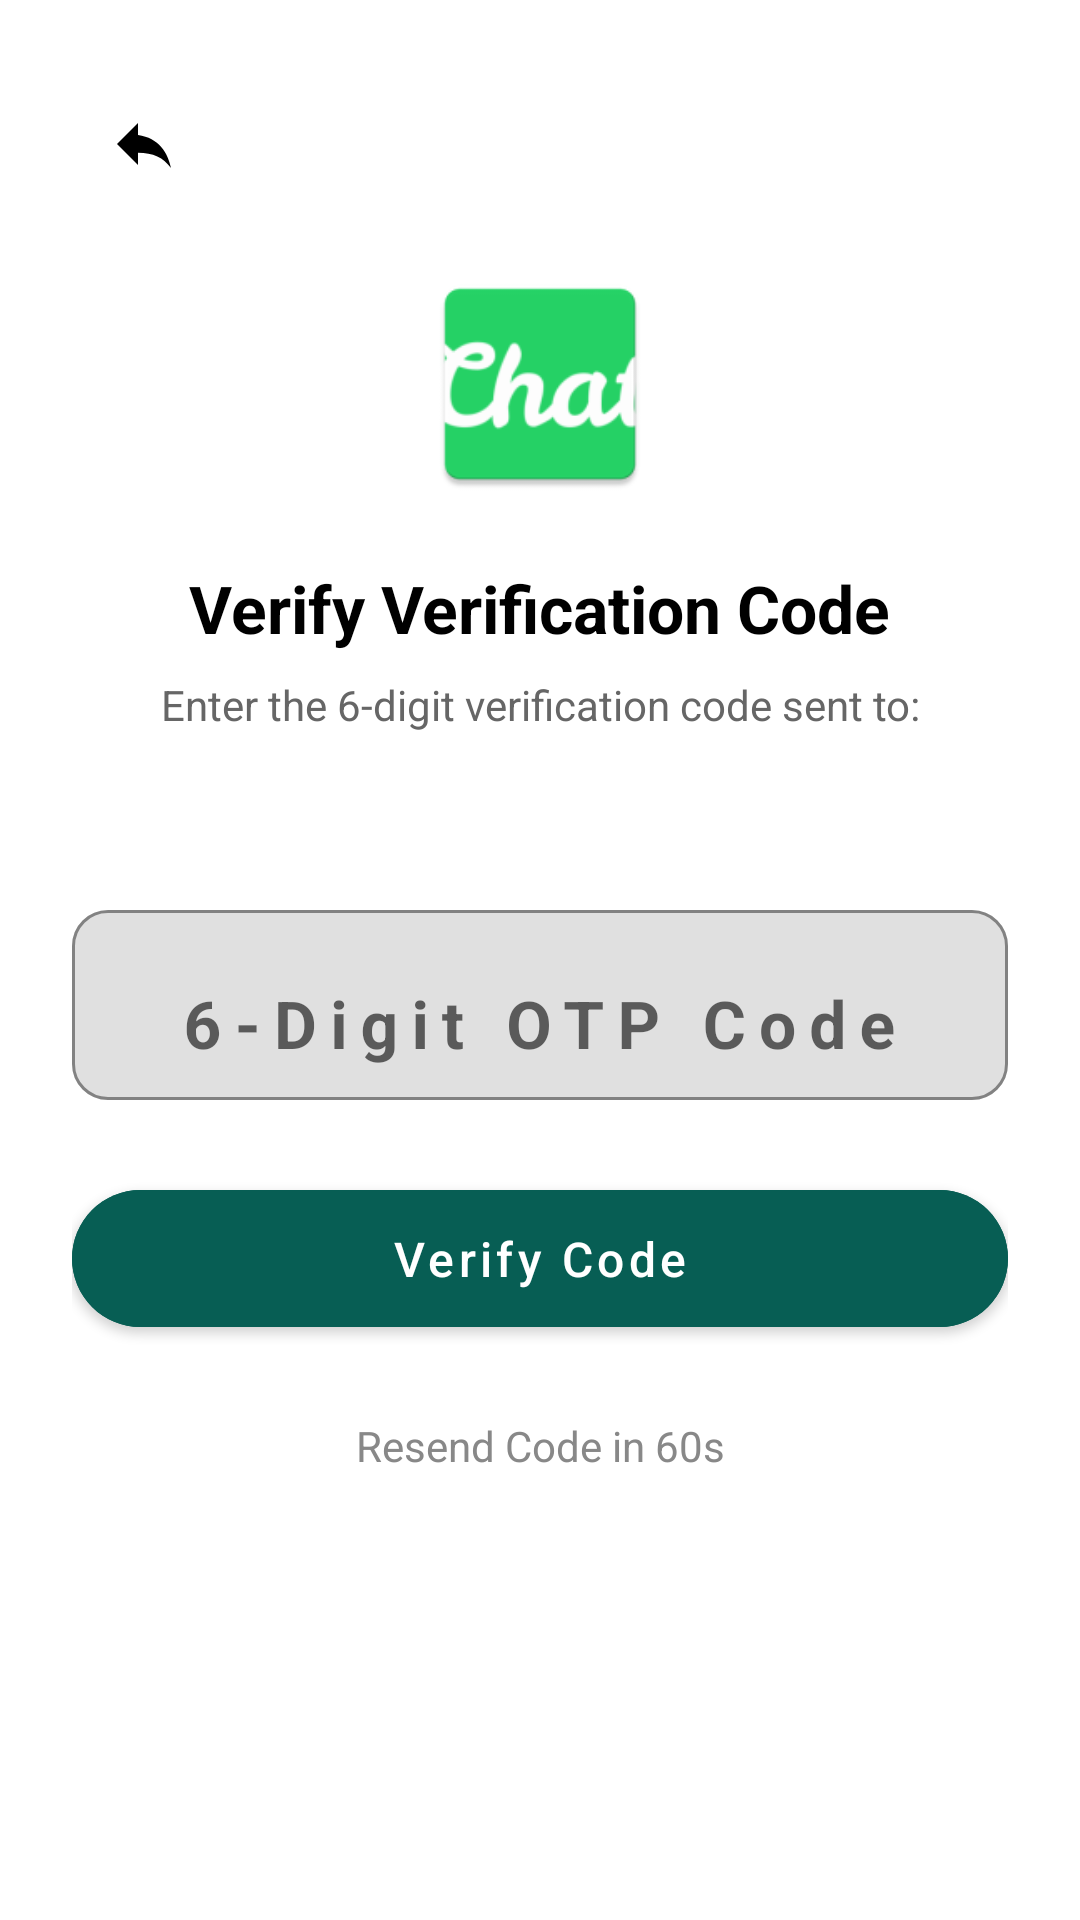

Icons on this 1080*1920 Android screen, each with its box as (x1, y1, x2, y2):
Back: (117, 123, 171, 168)
